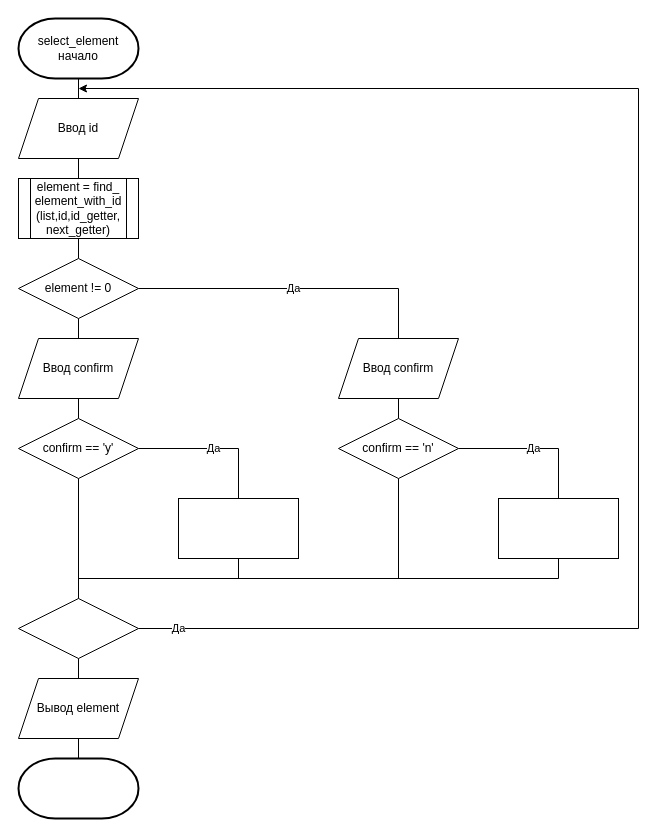
Some shapes in this 664 by 836 pixel diagram are drawn without their labels. The shapes that lost their labels are listed below. From the top down, each one's centre as x and y in pixels, then its label:
At (238,528): "confirm = 0".
At (558,528): "element = 0".
At (78,628): "confirm!='y'& &confirm!='n'".
At (78,788): "select_element конец".
